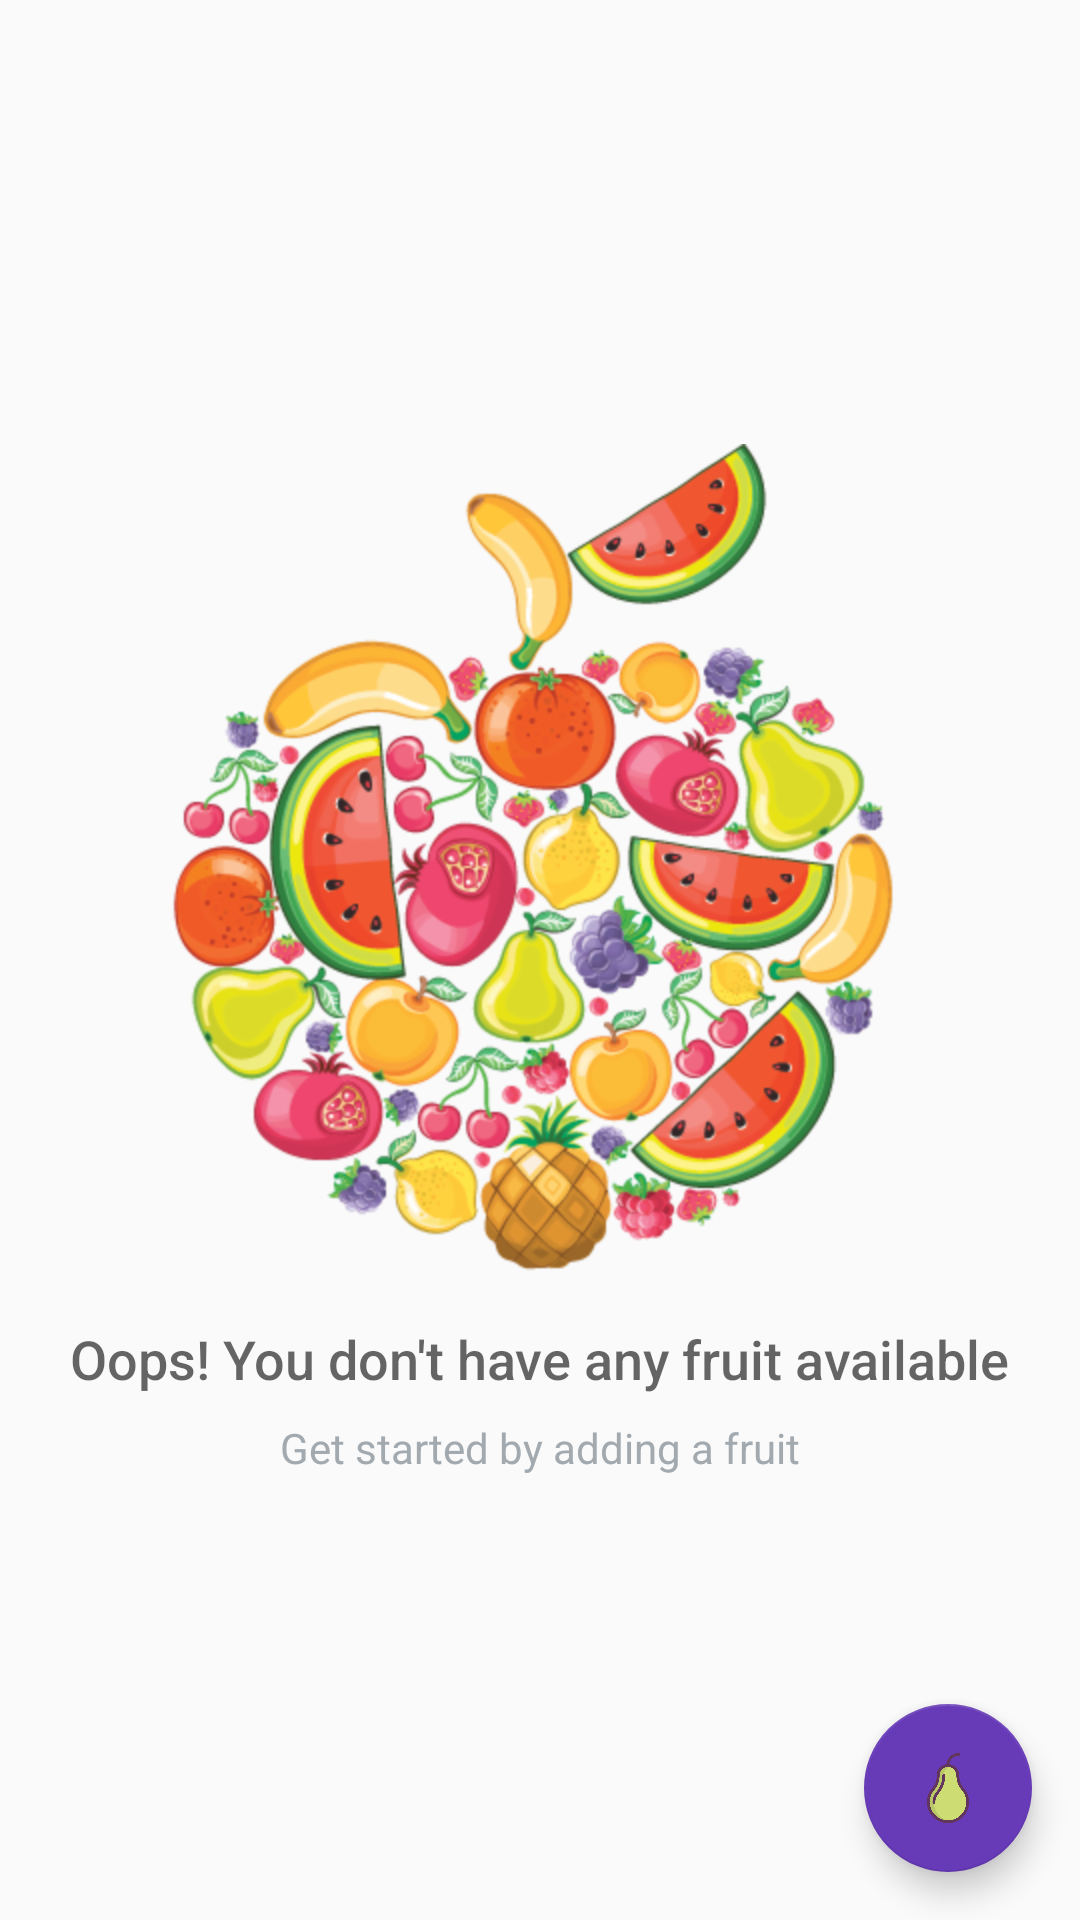

Named icons in this screenshot (1080 x 1920) and their bounding boxes, region(x1, y1, x2, y2):
add fruit: region(864, 1704, 1032, 1872)
